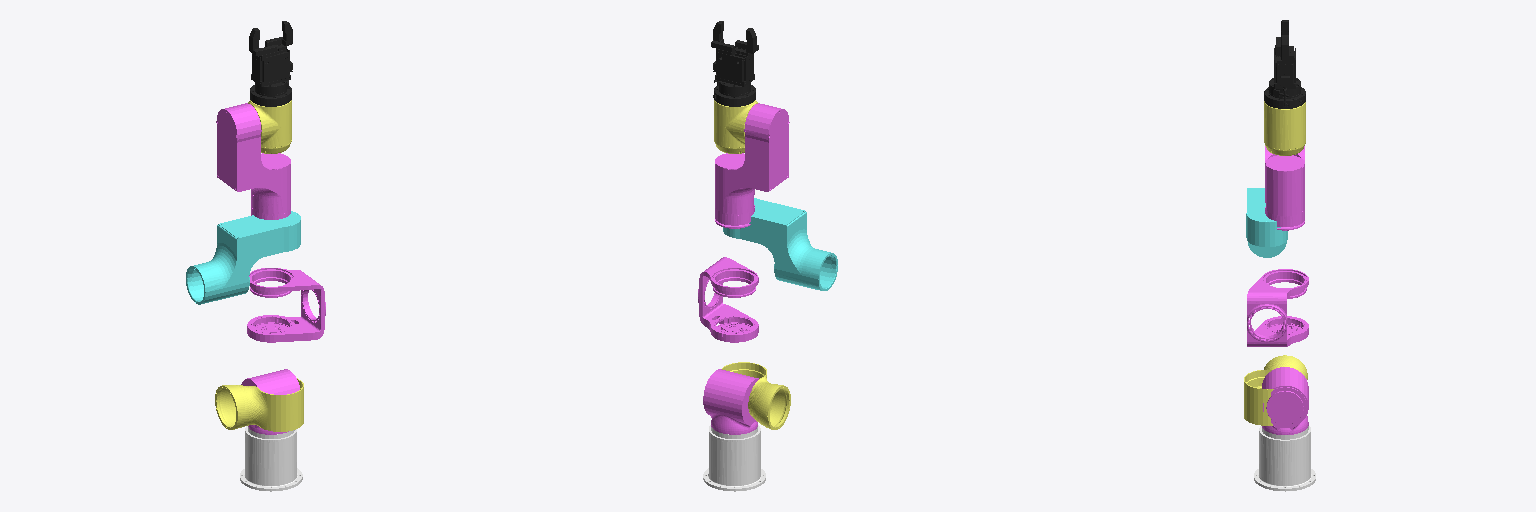
URDF robot description (w10_sim):
<?xml version="1.0" encoding="utf-8"?>
<!-- This URDF was automatically created by SolidWorks to URDF Exporter! Originally created by Stephen Brawner (brawner@gmail.com) 
     Commit Version: 1.6.0-4-g7f85cfe  Build Version: 1.6.7995.38578
     For more information, please see http://wiki.ros.org/sw_urdf_exporter -->
<robot
  name="w10_sim">
  <link
    name="base_link">
    <inertial>
      <origin
        xyz="4.1556E-12 5.0803E-12 0.081676"
        rpy="0 0 0" />
      <mass
        value="19.318" />
      <inertia
        ixx="0.067819"
        ixy="2.7427E-07"
        ixz="-2.7824E-12"
        iyy="0.067813"
        iyz="-6.6111E-12"
        izz="0.04982" />
    </inertial>
    <visual>
      <origin
        xyz="0 0 0"
        rpy="0 0 0" />
      <geometry>
        <mesh
          filename="package://w10_sim/meshes/base_link.STL" />
      </geometry>
      <material
        name="">
        <color
          rgba="1 1 1 1" />
      </material>
    </visual>
    <collision>
      <origin
        xyz="0 0 0"
        rpy="0 0 0" />
      <geometry>
        <mesh
          filename="package://w10_sim/meshes/base_link.STL" />
      </geometry>
    </collision>
  </link>
  <link
    name="Link2">
    <inertial>
      <origin
        xyz="0.0032675 -3.021E-06 0.085"
        rpy="0 0 0" />
      <mass
        value="10.901" />
      <inertia
        ixx="0.020174"
        ixy="6.1617E-12"
        ixz="6.0597E-12"
        iyy="0.025336"
        iyz="4.9314E-08"
        izz="0.025339" />
    </inertial>
    <visual>
      <origin
        xyz="0 0 0"
        rpy="0 0 0" />
      <geometry>
        <mesh
          filename="package://w10_sim/meshes/Link2.STL" />
      </geometry>
      <material
        name="">
        <color
          rgba="1 0.49 1 1" />
      </material>
    </visual>
    <collision>
      <origin
        xyz="0 0 0"
        rpy="0 0 0" />
      <geometry>
        <mesh
          filename="package://w10_sim/meshes/Link2.STL" />
      </geometry>
    </collision>
  </link>
  <joint
    name="joint2"
    type="continuous">
    <origin
      xyz="0 0 0.163"
      rpy="0 0 0" />
    <parent
      link="base_link" />
    <child
      link="Link2" />
    <axis
      xyz="0 0 -1" />
    <limit
      lower="-3.14"
      upper="3.14"
      effort="224"
      velocity="0" />
  </joint>
  <link
    name="Link3">
    <inertial>
      <origin
        xyz="-0.00018944 -0.16588 -0.0024151"
        rpy="0 0 0" />
      <mass
        value="18.719" />
      <inertia
        ixx="0.15689"
        ixy="0.00036464"
        ixz="0.00023874"
        iyy="0.058459"
        iyz="0.011864"
        izz="0.14437" />
    </inertial>
    <visual>
      <origin
        xyz="0 0 0"
        rpy="0 0 0" />
      <geometry>
        <mesh
          filename="package://w10_sim/meshes/Link3.STL" />
      </geometry>
      <material
        name="">
        <color
          rgba="1 1 0.49 1" />
      </material>
    </visual>
    <collision>
      <origin
        xyz="0 0 0"
        rpy="0 0 0" />
      <geometry>
        <mesh
          filename="package://w10_sim/meshes/Link3.STL" />
      </geometry>
    </collision>
  </link>
  <joint
    name="joint3"
    type="revolute">
    <origin
      xyz="0 0 0.085"
      rpy="-1.5708 0 -1.5708" />
    <parent
      link="Link2" />
    <child
      link="Link3" />
    <axis
      xyz="0 0 -1" />
    <limit
      lower="-1.8"
      upper="1.8"
      effort="224"
      velocity="0" />
  </joint>
  <link
    name="Link4">
    <inertial>
      <origin
        xyz="0.034074 -0.0039348 0.10793"
        rpy="0 0 0" />
      <mass
        value="17.534" />
      <inertia
        ixx="0.073159"
        ixy="0.0010879"
        ixz="-0.018036"
        iyy="0.080913"
        iyz="0.0025355"
        izz="0.043499" />
    </inertial>
    <visual>
      <origin
        xyz="0 0 0"
        rpy="0 0 0" />
      <geometry>
        <mesh
          filename="package://w10_sim/meshes/Link4.STL" />
      </geometry>
      <material
        name="">
        <color
          rgba="1 0.49 1 1" />
      </material>
    </visual>
    <collision>
      <origin
        xyz="0 0 0"
        rpy="0 0 0" />
      <geometry>
        <mesh
          filename="package://w10_sim/meshes/Link4.STL" />
      </geometry>
    </collision>
  </link>
  <joint
    name="joint4"
    type="continuous">
    <origin
      xyz="0 -0.2815 8.9457E-05"
      rpy="1.5708 0 0" />
    <parent
      link="Link3" />
    <child
      link="Link4" />
    <axis
      xyz="0 0 1" />
    <limit
      lower="-3.14"
      upper="3.14"
      effort="112"
      velocity="0" />
  </joint>
  <link
    name="Link5">
    <inertial>
      <origin
        xyz="-0.023914 -0.040467 -0.010198"
        rpy="0 0 0" />
      <mass
        value="7.087" />
      <inertia
        ixx="0.049793"
        ixy="-0.0076933"
        ixz="0.00031262"
        iyy="0.041831"
        iyz="0.0013761"
        izz="0.032075" />
    </inertial>
    <visual>
      <origin
        xyz="0 0 0"
        rpy="0 0 0" />
      <geometry>
        <mesh
          filename="package://w10_sim/meshes/Link5.STL" />
      </geometry>
      <material
        name="">
        <color
          rgba="0.49 1 1 1" />
      </material>
    </visual>
    <collision>
      <origin
        xyz="0 0 0"
        rpy="0 0 0" />
      <geometry>
        <mesh
          filename="package://w10_sim/meshes/Link5.STL" />
      </geometry>
    </collision>
  </link>
  <joint
    name="joint5"
    type="revolute">
    <origin
      xyz="0.050005 -8.944E-05 0.1435"
      rpy="-1.5708 0 0" />
    <parent
      link="Link4" />
    <child
      link="Link5" />
    <axis
      xyz="0 0 -1" />
    <limit
      lower="-2.2"
      upper="1.5"
      effort="112"
      velocity="0" />
  </joint>
  <link
    name="Link6">
    <inertial>
      <origin
        xyz="-1.0355E-05 -0.052363 0.17582"
        rpy="0 0 0" />
      <mass
        value="27.001" />
      <inertia
        ixx="0.2404"
        ixy="9.5265E-07"
        ixz="-1.202E-08"
        iyy="0.1908"
        iyz="0.078383"
        izz="0.097801" />
    </inertial>
    <visual>
      <origin
        xyz="0 0 0"
        rpy="0 0 0" />
      <geometry>
        <mesh
          filename="package://w10_sim/meshes/Link6.STL" />
      </geometry>
      <material
        name="">
        <color
          rgba="1 0.49 1 1" />
      </material>
    </visual>
    <collision>
      <origin
        xyz="0 0 0"
        rpy="0 0 0" />
      <geometry>
        <mesh
          filename="package://w10_sim/meshes/Link6.STL" />
      </geometry>
    </collision>
  </link>
  <joint
    name="joint6"
    type="continuous">
    <origin
      xyz="-0.049995 -0.1105 1.2129E-05"
      rpy="1.5708 0 0" />
    <parent
      link="Link5" />
    <child
      link="Link6" />
    <axis
      xyz="0 0 -1" />
    <limit
      lower="-3.14"
      upper="3.14"
      effort="35"
      velocity="0" />
  </joint>
  <link
    name="Link7">
    <inertial>
      <origin
        xyz="-0.00019188 -0.0058756 0.058824"
        rpy="0 0 0" />
      <mass
        value="9.0817" />
      <inertia
        ixx="0.018158"
        ixy="-2.0465E-05"
        ixz="1.6188E-05"
        iyy="0.013437"
        iyz="5.5083E-06"
        izz="0.01858" />
    </inertial>
    <visual>
      <origin
        xyz="0 0 0"
        rpy="0 0 0" />
      <geometry>
        <mesh
          filename="package://w10_sim/meshes/Link7.STL" />
      </geometry>
      <material
        name="">
        <color
          rgba="1 1 0.49 1" />
      </material>
    </visual>
    <collision>
      <origin
        xyz="0 0 0"
        rpy="0 0 0" />
      <geometry>
        <mesh
          filename="package://w10_sim/meshes/Link7.STL" />
      </geometry>
    </collision>
  </link>
  <joint
    name="joint7"
    type="revolute">
    <origin
      xyz="0 -0.062949 0.3162"
      rpy="-1.5708 0 0" />
    <parent
      link="Link6" />
    <child
      link="Link7" />
    <axis
      xyz="0 0 -1" />
    <limit
      lower="-1.8"
      upper="1.8"
      effort="35"
      velocity="0" />
  </joint>
  <link
    name="Link8">
    <inertial>
      <origin
        xyz="0.00010886 0.00095891 0.081689"
        rpy="0 0 0" />
      <mass
        value="5.9998" />
      <inertia
        ixx="0.004627"
        ixy="-6.3264E-05"
        ixz="1.7802E-06"
        iyy="0.0032324"
        iyz="-6.4806E-06"
        izz="0.0062846" />
    </inertial>
    <visual>
      <origin
        xyz="0 0 0"
        rpy="0 0 0" />
      <geometry>
        <mesh
          filename="package://w10_sim/meshes/Link8.STL" />
      </geometry>
      <material
        name="">
        <color
          rgba="0.2 0.2 0.2 1" />
      </material>
    </visual>
    <collision>
      <origin
        xyz="0 0 0"
        rpy="0 0 0" />
      <geometry>
        <mesh
          filename="package://w10_sim/meshes/Link8.STL" />
      </geometry>
    </collision>
  </link>
  <joint
    name="joint8"
    type="continuous">
    <origin
      xyz="0 -0.0684 0.062"
      rpy="1.5708 0 0" />
    <parent
      link="Link7" />
    <child
      link="Link8" />
    <axis
      xyz="0 0 1" />
    <limit
      lower="-3.14"
      upper="3.14"
      effort="35"
      velocity="0" />
  </joint>
</robot>

--- Facts derived from the render (not from the file) ---
3 views of the same robot in one strip: view 1: azimuth 30°, elevation 25°; view 2: azimuth 150°, elevation 25°; view 3: azimuth 270°, elevation 25° (orthographic).
Model w10_sim with 8 links and 7 joints (3 revolute, 4 continuous), rooted at base_link, posed all joints at 0.
Links seen in each view (by area): view 1: Link6, Link5, Link4, Link3, base_link, Link8, Link7, Link2; view 2: Link6, Link5, Link4, base_link, Link8, Link2, Link3, Link7; view 3: Link4, base_link, Link6, Link2, Link8, Link7, Link5, Link3.
Boxes of the visible links, x1,y1,x2,y2 form: Link6: [216, 103, 290, 219]; Link5: [186, 211, 300, 304]; Link4: [247, 268, 325, 342]; Link3: [215, 378, 303, 431]; base_link: [240, 426, 302, 491]; Link8: [249, 21, 292, 106]; Link7: [248, 100, 291, 153]; Link2: [241, 369, 299, 434]; Link6: [715, 103, 789, 228]; Link5: [723, 198, 837, 290]; Link4: [698, 257, 758, 342]; base_link: [703, 425, 765, 491]; Link8: [711, 21, 758, 106]; Link2: [703, 369, 758, 434]; Link3: [722, 362, 790, 429]; Link7: [714, 100, 757, 153]; Link4: [1247, 269, 1308, 346]; base_link: [1254, 426, 1315, 491]; Link6: [1265, 146, 1304, 230]; Link2: [1262, 367, 1308, 434]; Link8: [1264, 20, 1305, 108]; Link7: [1264, 101, 1305, 155]; Link5: [1246, 188, 1287, 257]; Link3: [1244, 355, 1307, 425].
Bounding box of the posed robot: 0.3866 × 0.2035 × 1.38 m (x, y, z).
Meshes: 8 distinct files referenced, 8 mesh visuals loaded (8 binary STL).
